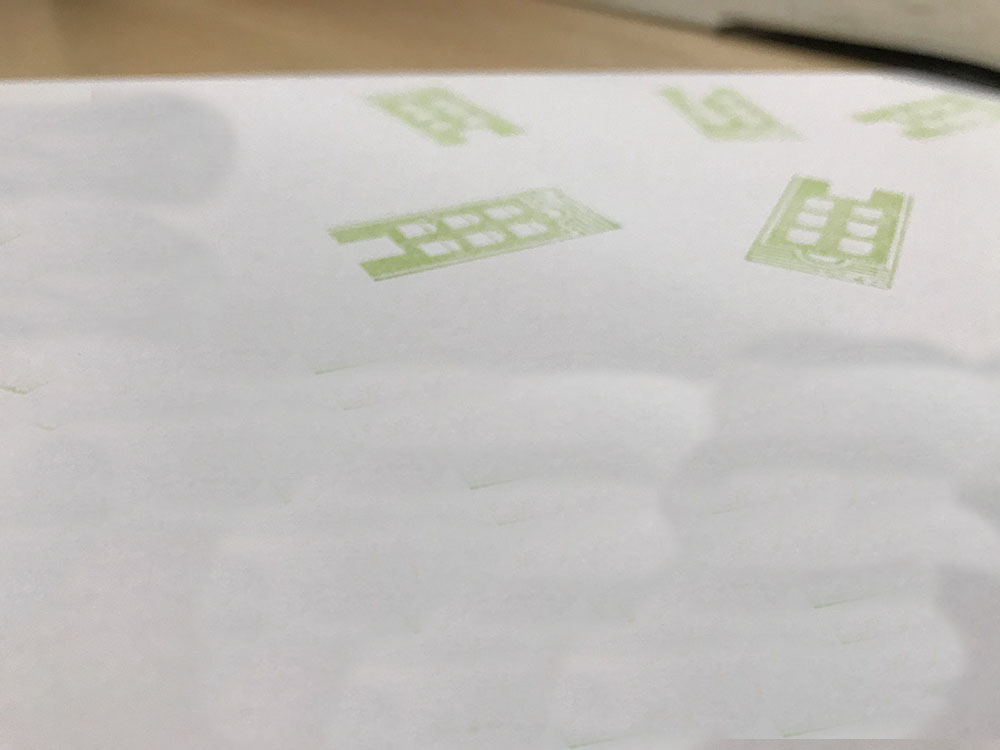build: (718, 159, 940, 316), (310, 182, 631, 285), (350, 78, 539, 162), (645, 74, 822, 155)
